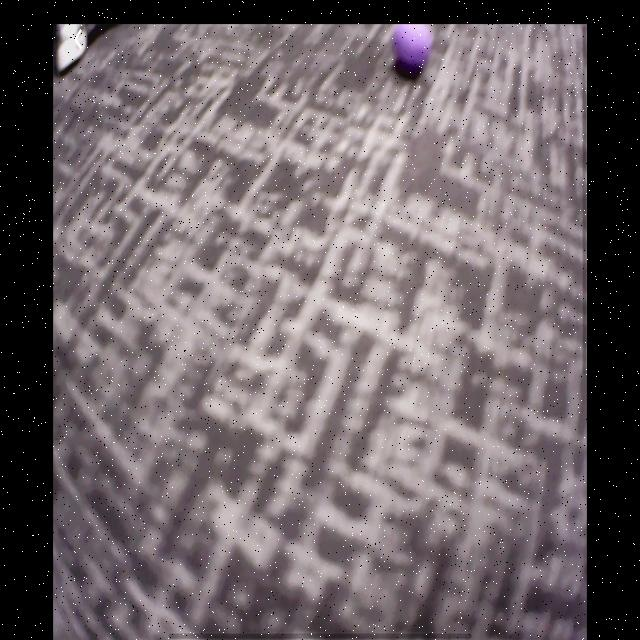ball: (392, 23, 435, 80)
